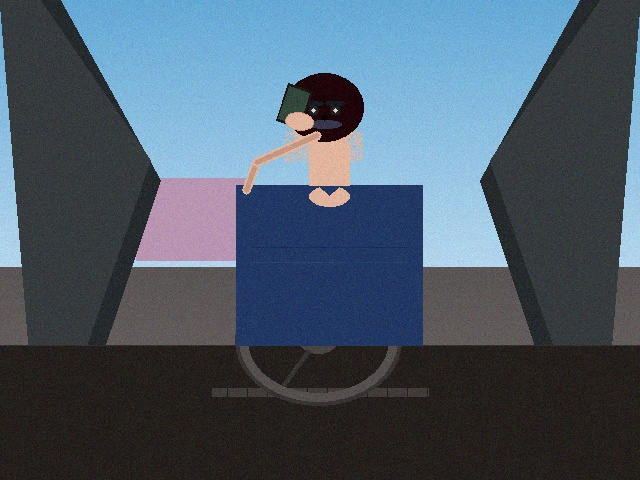phone_usage: (273, 78, 315, 133)
